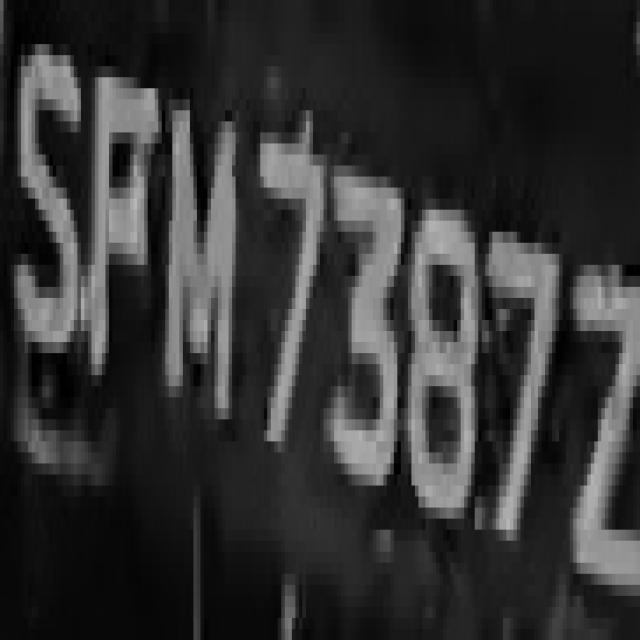3: (323, 99, 401, 530)
7: (485, 187, 563, 596), (253, 89, 324, 442)
8: (397, 143, 482, 574)
F: (88, 44, 162, 375)
M: (165, 78, 250, 452)
S: (14, 11, 91, 397)
Z: (570, 188, 636, 618)
